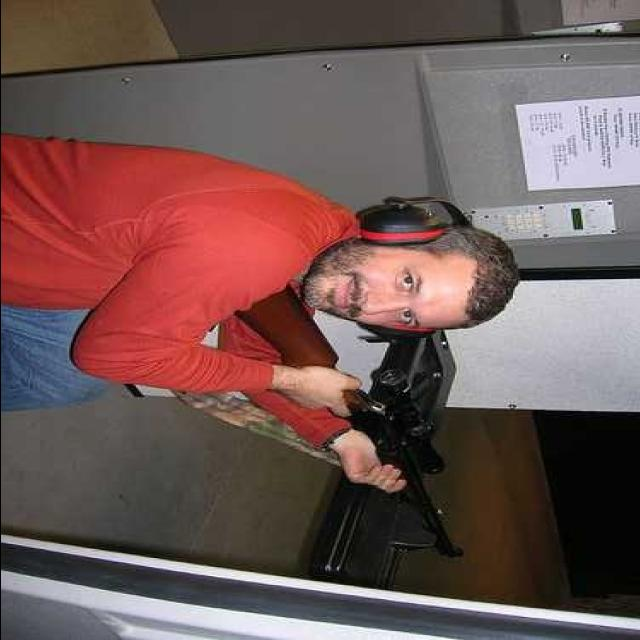heavyweapon: (230, 292, 482, 572)
